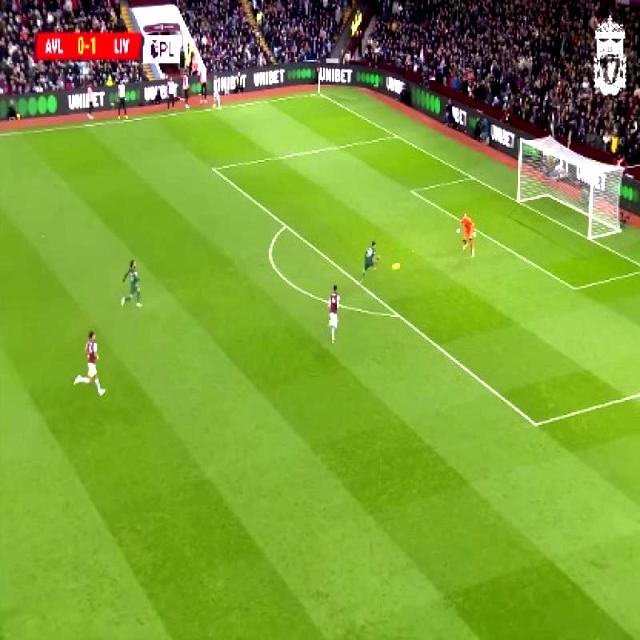bigarea_bottom_inner: (525, 410, 545, 436)
bigarea_top_inner: (206, 158, 220, 177)
bigarea_top_outter: (391, 128, 403, 142)
bottom_arc_area_intersection: (390, 305, 404, 325)
corner: (308, 86, 324, 98)
smallarea_bottom_inner: (564, 276, 582, 298)
smallarea_top_inner: (404, 182, 418, 198)
smallarea_top_outter: (465, 168, 480, 185)
top_arc_area_intersection: (278, 218, 292, 232)
